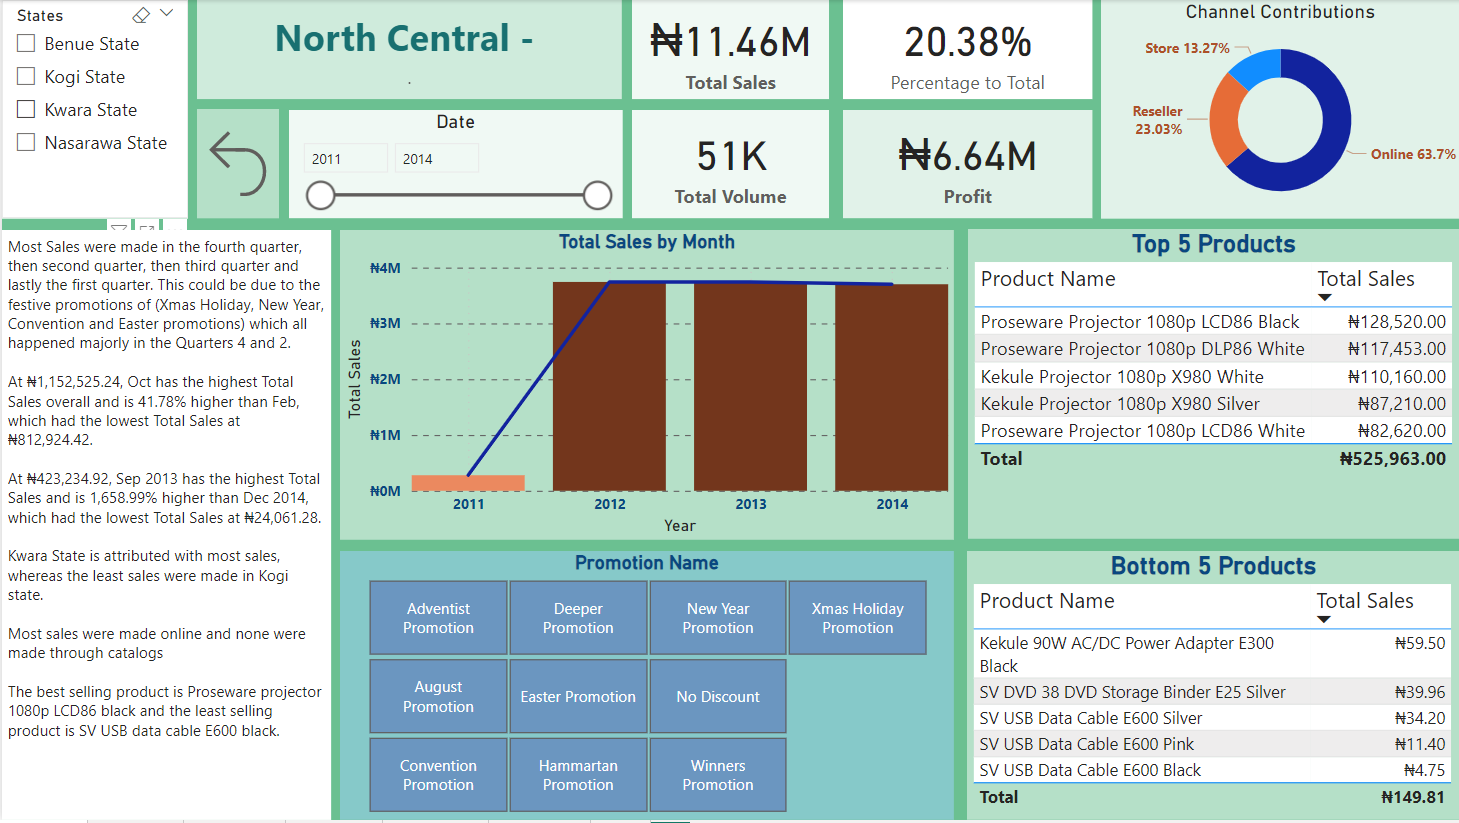

The page's visual inventory and layout, read from the dashboard file:
{"tool":"powerbi","page":{"name":"North Central","canvas":[1280,720],"ordinal":1},"visuals":[{"type":"card","fields":{"Values":["Measures (2).Total Sales"]},"box":[553.4,0,173.1,86.6],"z":0},{"type":"card","fields":{"Values":["Measures (2).Profit"]},"box":[738.2,96.3,218.8,95.3],"z":1000},{"type":"card","fields":{"Values":["Sum(Sales_Details.Order Qty)"]},"box":[553.4,96.3,173.1,95.3],"z":2000},{"type":"slicer","title":"Date","fields":{"Values":["DateKey.Year"]},"box":[251.9,96.3,292.8,95.3],"z":3000},{"type":"tableEx","title":"Top 5 Products","fields":{"Values":["Sales_Details.Product Name","Measures (2).Total Sales"]},"box":[848.1,201.3,431.9,272.3],"z":4000},{"type":"slicer","title":"Promotion Name","fields":{"Values":["Sales_Details.Promotion Name"]},"box":[296.6,483.8,539.1,235.7],"z":5000},{"type":"card","fields":{"Values":["Measures (2).Channel to Product Contribution"]},"box":[738.2,0,218.8,86.6],"z":6000},{"type":"donutChart","title":"Channel Contributions","fields":{"Y":["Measures (2).Total Sales"],"Category":["Sales_Details.Channel"]},"box":[964.9,0,315.1,191.6],"z":7000},{"type":"slicer","fields":{"Values":["Sales_Details.States"]},"box":[0,0,163.4,191.6],"z":8000},{"type":"lineStackedColumnComboChart","title":"Total Sales by Month","fields":{"Category":["DateKey.Year","DateKey.Month","DateKey.Quarters"],"Y":["Measures (2).Total Sales"],"Y2":["Measures (2).Total Sales"]},"box":[296.6,201.9,539.1,271.8],"z":9000},{"type":"tableEx","title":"Bottom 5 Products","fields":{"Values":["Sales_Details.Product Name","Measures (2).Total Sales"]},"box":[847.2,483.4,432.8,236.4],"z":10000},{"type":"textbox","box":[0,201.9,288.7,517.6],"z":11000},{"type":"actionButton","box":[171.4,95.9,72.2,95.9],"z":12000},{"type":"card","fields":{"Values":["Sales_Details.Title"]},"box":[171.2,0,373.5,86.6],"z":13000}]}

Visuals, with their boxes in screenshot pixels (x1, y1, x2, y2), scaled from the page's 1280x720 canvas onto the 1459x823 screenshot:
card - Measures (2).Total Sales: pyautogui.locateOnScreen(631, 0, 828, 99)
card - Measures (2).Profit: pyautogui.locateOnScreen(841, 110, 1091, 219)
card - Sum(Sales_Details.Order Qty): pyautogui.locateOnScreen(631, 110, 828, 219)
"Date" slicer: pyautogui.locateOnScreen(287, 110, 621, 219)
"Top 5 Products" tableEx: pyautogui.locateOnScreen(967, 230, 1458, 541)
"Promotion Name" slicer: pyautogui.locateOnScreen(338, 553, 953, 822)
card - Measures (2).Channel to Product Contribution: pyautogui.locateOnScreen(841, 0, 1091, 99)
"Channel Contributions" donutChart: pyautogui.locateOnScreen(1100, 0, 1458, 219)
slicer - Sales_Details.States: pyautogui.locateOnScreen(0, 0, 186, 219)
"Total Sales by Month" lineStackedColumnComboChart: pyautogui.locateOnScreen(338, 231, 953, 541)
"Bottom 5 Products" tableEx: pyautogui.locateOnScreen(966, 553, 1458, 822)
textbox: pyautogui.locateOnScreen(0, 231, 329, 822)
actionButton: pyautogui.locateOnScreen(195, 110, 278, 219)
card - Sales_Details.Title: pyautogui.locateOnScreen(195, 0, 621, 99)
